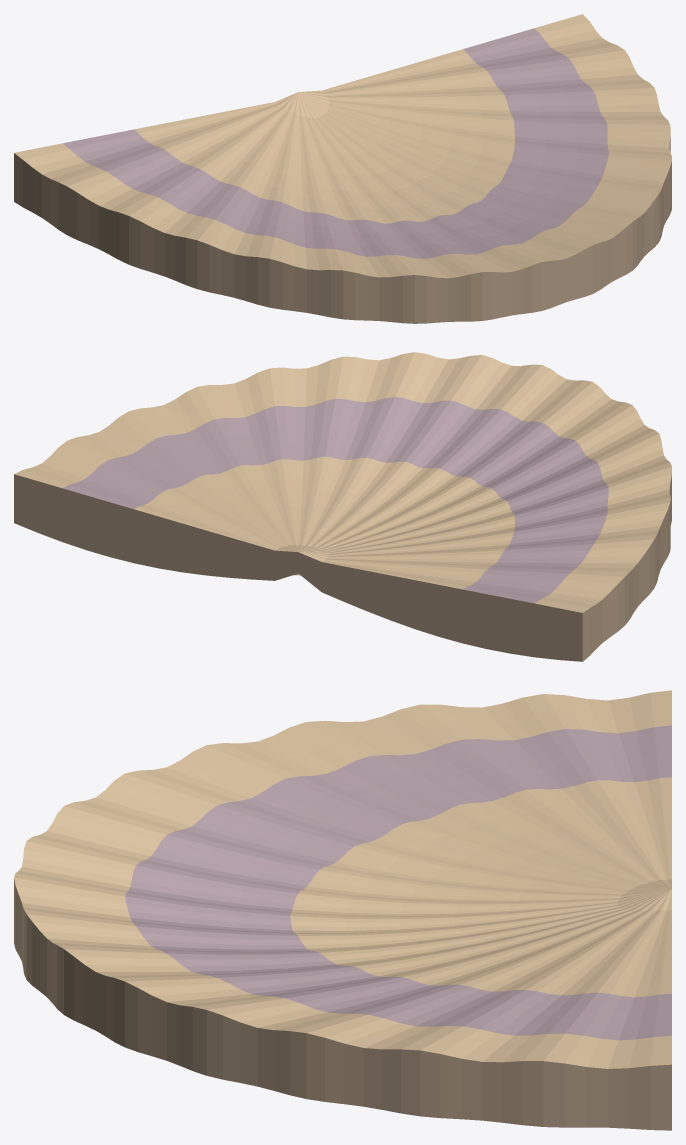
File: strophomena.glb
The picture shows the model from 3 angles, top to bottom: view 1: azimuth 30°, elevation 25°; view 2: azimuth 150°, elevation 25°; view 3: azimuth 270°, elevation 25°; orthographic projection. The views are drawn at different scales.
Parts seen in each view (by area): view 1: Shallow articulated radial-ribbed valves; view 2: Shallow articulated radial-ribbed valves; view 3: Shallow articulated radial-ribbed valves.
Boxes of the visible parts, box(x1,y1,x2,y2) form: Shallow articulated radial-ribbed valves: box(14, 14, 671, 323); Shallow articulated radial-ribbed valves: box(14, 352, 671, 661); Shallow articulated radial-ribbed valves: box(14, 690, 671, 1130).
Size of the model in its own units: 0.0556 by 0.00771 by 0.0413.
